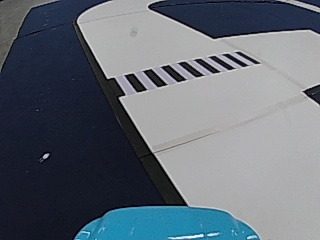CrossWalk: (115, 50, 253, 93)
